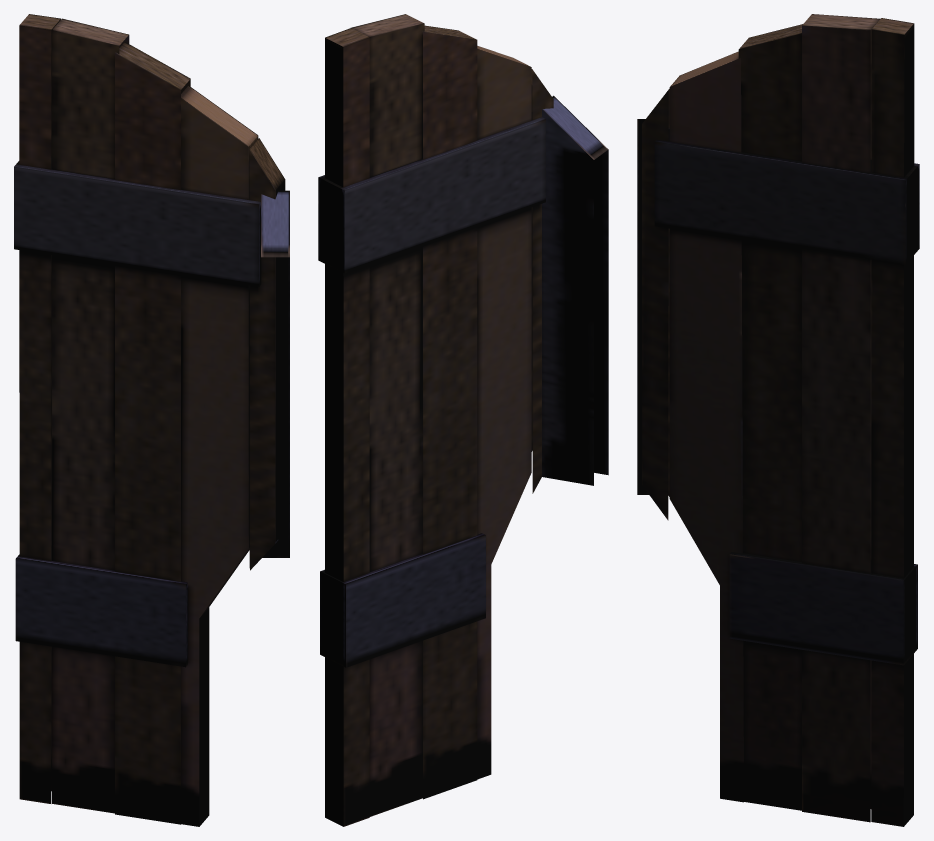
File: DoorSide2F7.obj
The picture shows the model from 3 angles, left to right: view 1: azimuth 90°, elevation 25°; view 2: azimuth 150°, elevation 25°; view 3: azimuth 270°, elevation 25°; orthographic projection. The views are drawn at different scales.
Parts seen in each view (by area): view 1: DoorSide2F7_Cube.429; view 2: DoorSide2F7_Cube.429; view 3: DoorSide2F7_Cube.429.
Boxes of the visible parts, box(x1,y1,x2,y2) form: DoorSide2F7_Cube.429: box(14, 14, 289, 826); DoorSide2F7_Cube.429: box(318, 14, 608, 826); DoorSide2F7_Cube.429: box(637, 14, 919, 826).
Size of the model in its own units: 56.76 by 268 by 86.56.
1 material, 1 textured.
